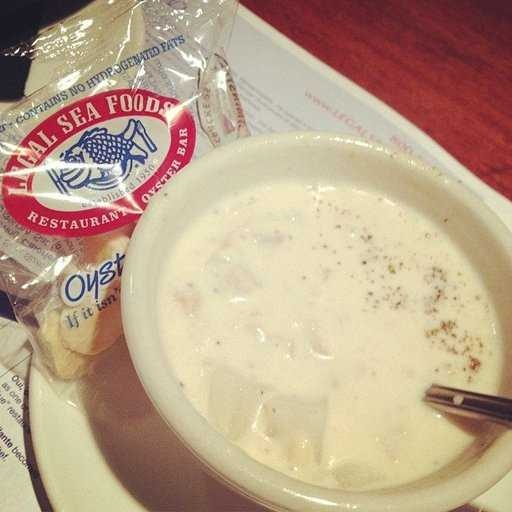soup: (173, 174, 499, 483)
